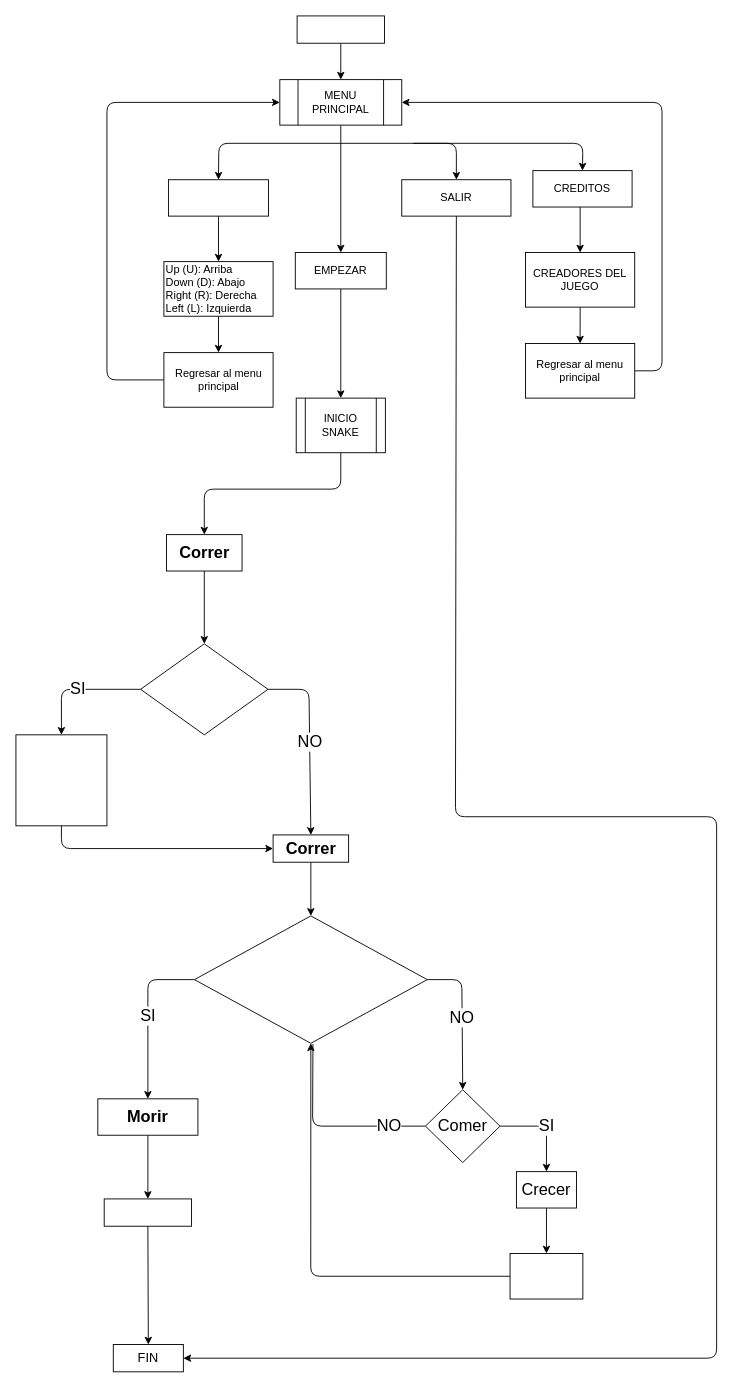
Some shapes in this 740 by 1388 pixel diagram are drawn without their labels. Each missing label, with the centre of its shape:
"Comprobar que la cabeza no choca con su cuerpo o los bordes de la Pantala" belongs at point (310, 979).
"GAME OVER" belongs at point (147, 1212).
"INICIO" belongs at point (340, 29).
"INSTRUCCIONES" belongs at point (218, 197).
"Movimiento" belongs at point (204, 689).
"Nueva Comida" belongs at point (546, 1276).
"↑: U ↓: D →: R ←: L" belongs at point (61, 780).
